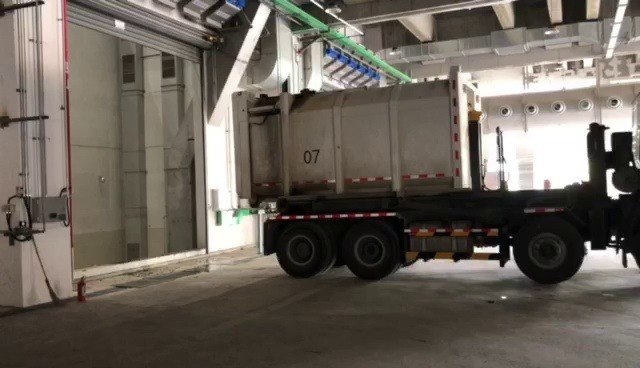truck: (218, 64, 640, 291)
